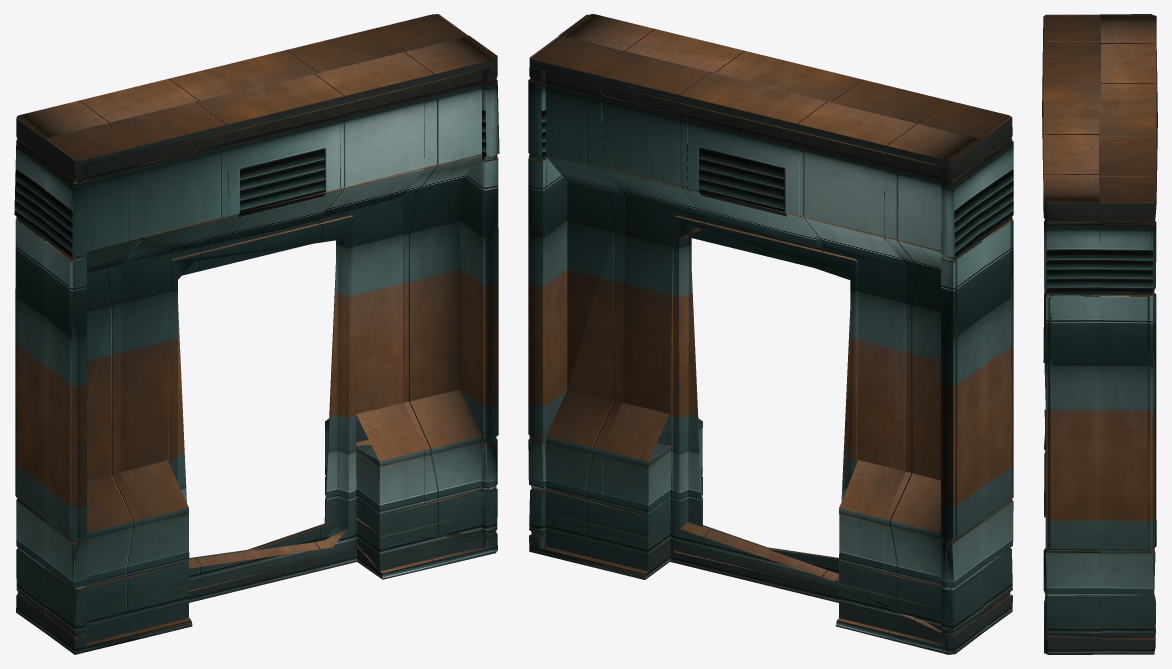
File: obj_space_lock.glb
3 views of the same model, side by side, from view 1: azimuth 30°, elevation 25°; view 2: azimuth 150°, elevation 25°; view 3: azimuth 270°, elevation 25° (orthographic). The views are drawn at different scales.
Parts seen in each view (by area): view 1: geometry_0.001; view 2: geometry_0.001; view 3: geometry_0.001.
Part boxes in pixels (x1,y1,x2,y2): geometry_0.001: (14, 14, 499, 654); geometry_0.001: (528, 14, 1013, 654); geometry_0.001: (1042, 14, 1157, 654).
Bounding box in the file's own units: 0.8668 × 0.953 × 0.2216.
1 material, 1 textured.
